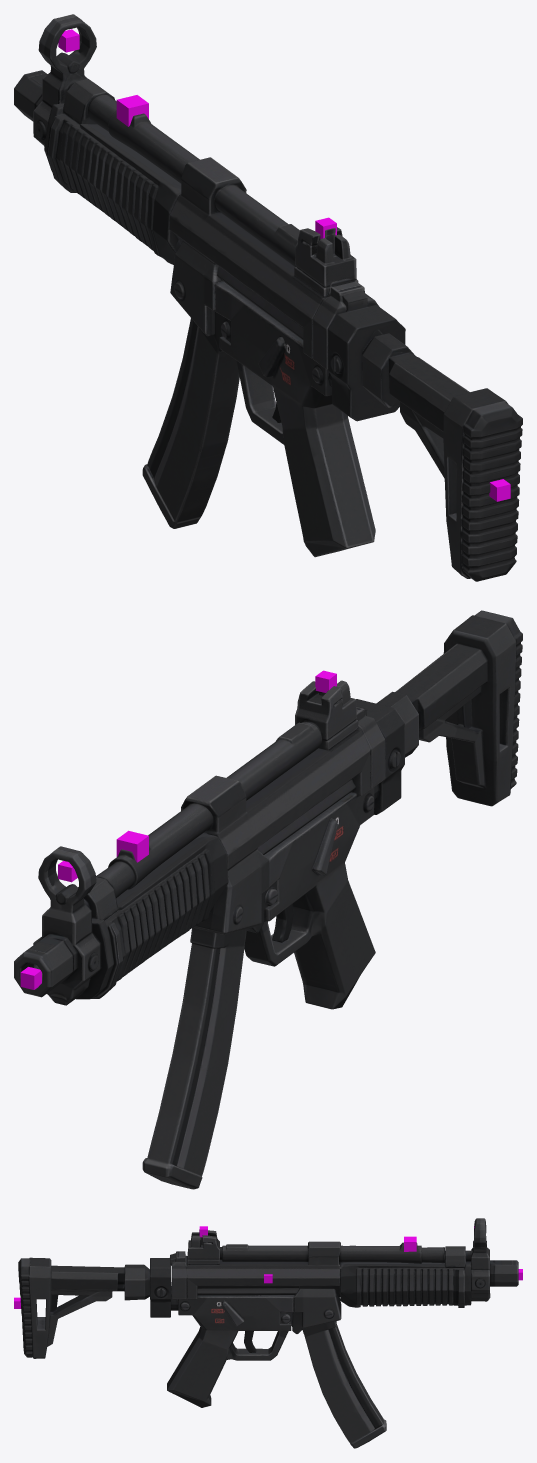
The model's file is SMG.glb.
3 views of the same model, one above another, from view 1: azimuth 30°, elevation 25°; view 2: azimuth 150°, elevation 25°; view 3: azimuth 270°, elevation 25° (orthographic). The views are drawn at different scales.
Visible parts, largest first — view 1: Magazine_02, Skin_Body_18, Skin_Body_21, Skin_Body_14, Skin_Body_24, Skin_Body_15, Skin_Body_16, Skin_Body_20, Skin_Body_17, Skin_Body_23, Skin_Body_22, Skin_Body_01 (+15 smaller); view 2: Skin_Body_22, Skin_Body_17, Skin_Body_16, Magazine_02, Skin_Body_14, Skin_Body_01, Skin_Body_15, Magazine_01, Skin_Body_23, Skin_Body_18, Skin_Body_21, Skin_Body_13 (+13 smaller); view 3: Skin_Body_14, Skin_Body_16, Skin_Body_17, Magazine_02, Skin_Body_22, Skin_Body_15, Skin_Body_18, Skin_Body_21, Skin_Body_23, Skin_Body_01, Magazine_01, Skin_Body_20 (+13 smaller).
Part boxes in pixels (x1=…): Magazine_02: x1=169, y1=318, x2=239, y2=525; Skin_Body_18: x1=289, y1=227, x2=361, y2=557; Skin_Body_21: x1=328, y1=295, x2=418, y2=549; Skin_Body_14: x1=169, y1=157, x2=248, y2=352; Skin_Body_24: x1=464, y1=404, x2=522, y2=578; Skin_Body_15: x1=208, y1=193, x2=278, y2=427; Skin_Body_16: x1=237, y1=215, x2=299, y2=444; Skin_Body_20: x1=312, y1=281, x2=379, y2=553; Skin_Body_17: x1=271, y1=227, x2=337, y2=549; Skin_Body_23: x1=443, y1=388, x2=518, y2=581; Skin_Body_22: x1=389, y1=357, x2=486, y2=531; Skin_Body_01: x1=14, y1=14, x2=89, y2=146; Skin_Body_22: x1=395, y1=629, x2=503, y2=789; Skin_Body_17: x1=294, y1=683, x2=356, y2=1009; Skin_Body_16: x1=262, y1=723, x2=334, y2=961; Magazine_02: x1=177, y1=926, x2=256, y2=1176; Skin_Body_14: x1=181, y1=771, x2=274, y2=947; Skin_Body_01: x1=14, y1=846, x2=99, y2=1005; Skin_Body_15: x1=235, y1=748, x2=304, y2=966; Magazine_01: x1=142, y1=1024, x2=208, y2=1189; Skin_Body_23: x1=449, y1=611, x2=521, y2=806; Skin_Body_18: x1=310, y1=680, x2=370, y2=1008; Skin_Body_21: x1=356, y1=691, x2=424, y2=814; Skin_Body_13: x1=172, y1=796, x2=229, y2=934; Skin_Body_14: x1=289, y1=1241, x2=339, y2=1333; Skin_Body_16: x1=224, y1=1244, x2=266, y2=1360; Skin_Body_17: x1=196, y1=1230, x2=232, y2=1406; Magazine_02: x1=298, y1=1324, x2=360, y2=1444; Skin_Body_22: x1=43, y1=1258, x2=120, y2=1346; Skin_Body_15: x1=258, y1=1245, x2=298, y2=1360; Skin_Body_18: x1=184, y1=1229, x2=218, y2=1407; Skin_Body_21: x1=116, y1=1255, x2=172, y2=1392; Skin_Body_23: x1=22, y1=1257, x2=49, y2=1358; Skin_Body_01: x1=472, y1=1218, x2=518, y2=1301; Magazine_01: x1=345, y1=1360, x2=386, y2=1448; Skin_Body_20: x1=170, y1=1251, x2=192, y2=1400.
Size of the model in its own units: 0.2103 by 1.18 by 2.42.
2 materials, 1 textured.
